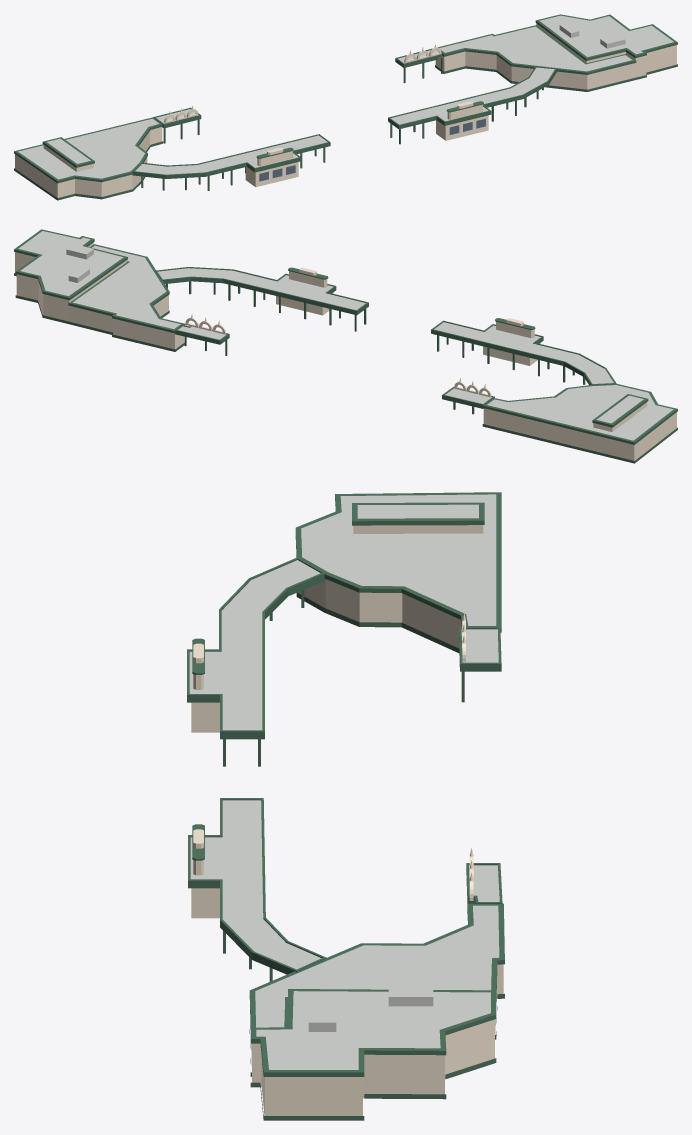
3 renders of one model, top to bottom at view 1: azimuth 30°, elevation 25°; view 2: azimuth 150°, elevation 25°; view 3: azimuth 270°, elevation 25°, orthographic. The views are drawn at different scales.
Parts seen in each view (by area): view 1: magic-kingdom-entrance-walt-disney-world; view 2: magic-kingdom-entrance-walt-disney-world; view 3: magic-kingdom-entrance-walt-disney-world.
Part boxes in pixels (<box>): magic-kingdom-entrance-walt-disney-world: <box>14,14,677,200</box>; magic-kingdom-entrance-walt-disney-world: <box>14,229,677,463</box>; magic-kingdom-entrance-walt-disney-world: <box>187,492,504,1120</box>.
Size of the model in its own units: 131 by 6.54 by 29.82.
